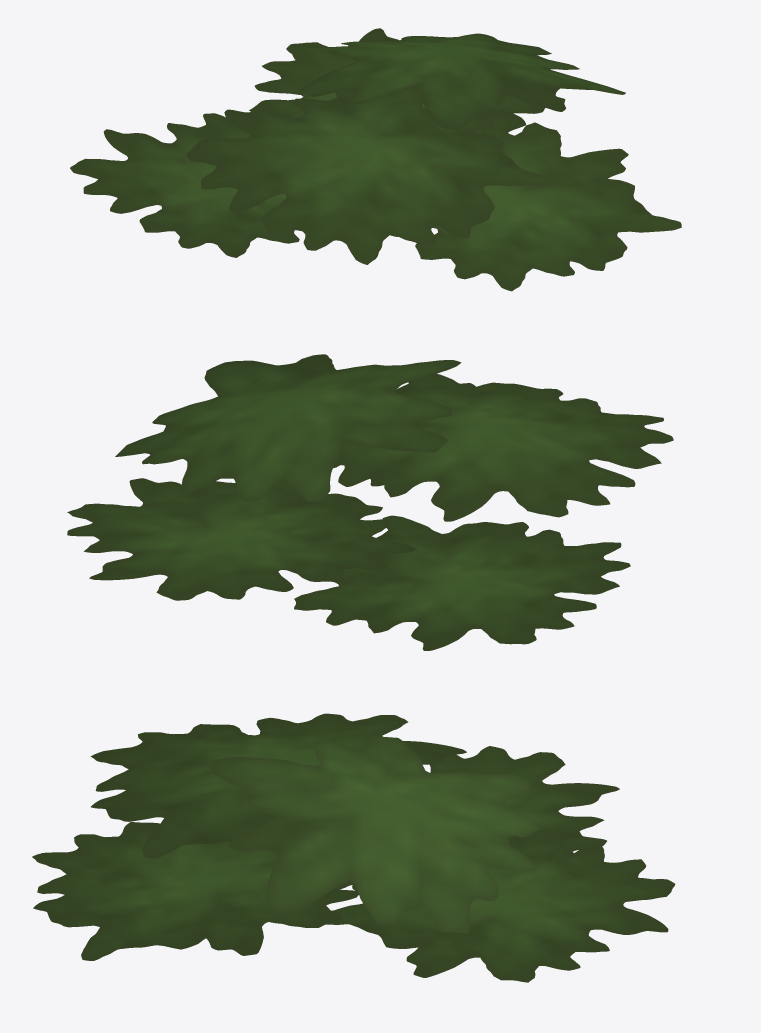
Rendered from Bush_05.fbx.
3 renders of one model, top to bottom at view 1: azimuth 30°, elevation 25°; view 2: azimuth 150°, elevation 25°; view 3: azimuth 270°, elevation 25°, orthographic. The views are drawn at different scales.
Parts seen in each view (by area): view 1: Bush_05; view 2: Bush_05; view 3: Bush_05.
Part boxes in pixels (box(x1,y1,x2,y2)): Bush_05: box(70, 28, 681, 291); Bush_05: box(67, 354, 673, 650); Bush_05: box(32, 713, 675, 982).
Bounding box in the file's own units: 190 × 40.63 × 207.
1 material, 1 textured.
